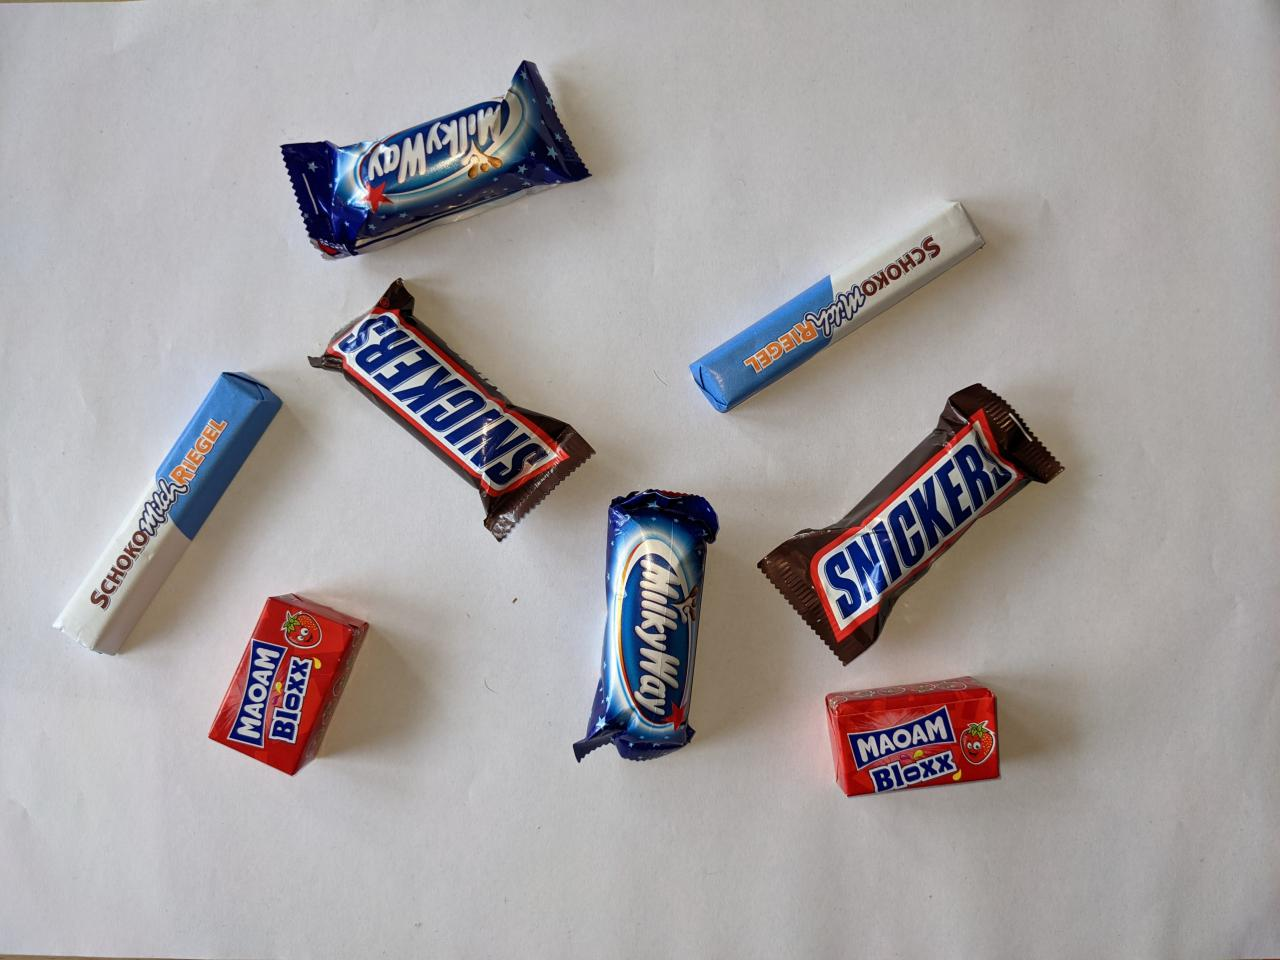MAOAM: (201, 587, 376, 784), (820, 669, 1007, 802)
MilkyWay: (275, 51, 601, 268), (564, 483, 725, 771)
Schokoriegel: (46, 361, 291, 665), (681, 189, 990, 424)
Snickers: (748, 380, 1071, 674), (298, 270, 604, 550)
